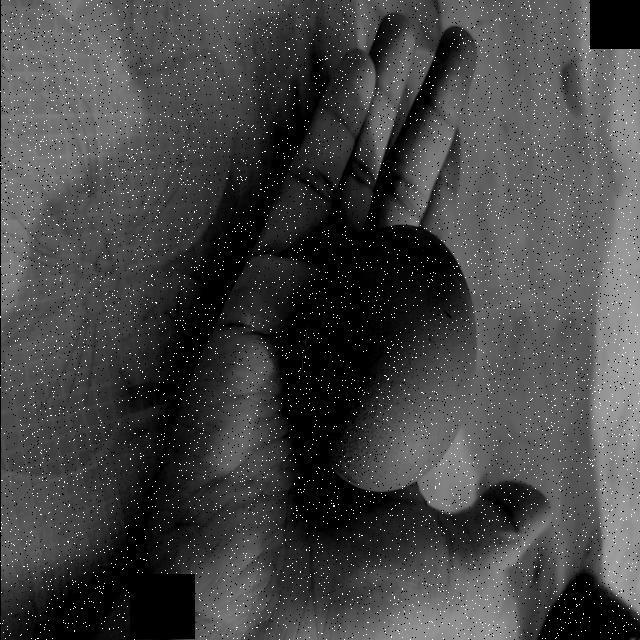egg: (294, 216, 478, 502)
